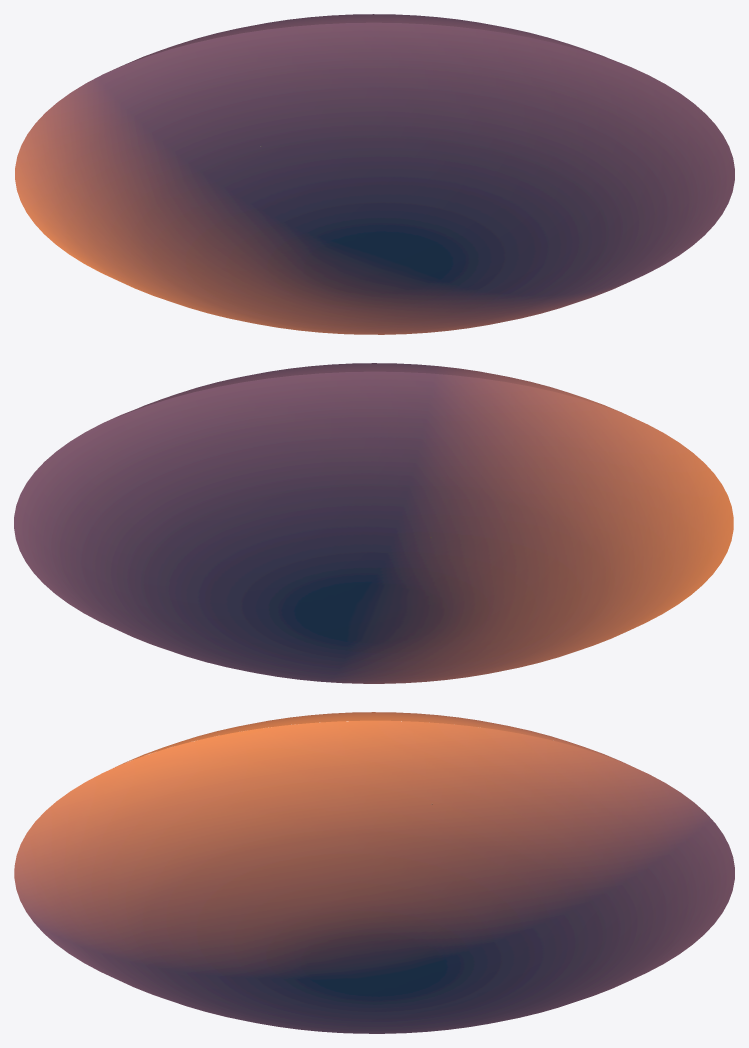
File: island.glb
The picture shows the model from 3 angles, top to bottom: view 1: azimuth 30°, elevation 25°; view 2: azimuth 150°, elevation 25°; view 3: azimuth 270°, elevation 25°; orthographic projection.
Visible parts, largest first — view 1: StaticMesh_SkySphere_3, StaticMesh_SkySphere_2; view 2: StaticMesh_SkySphere_3, StaticMesh_SkySphere_2; view 3: StaticMesh_SkySphere_3, StaticMesh_SkySphere_2.
Part boxes in pixels (x1,y1,x2,y2): StaticMesh_SkySphere_3: (15, 22, 734, 334); StaticMesh_SkySphere_2: (112, 14, 633, 70); StaticMesh_SkySphere_3: (14, 371, 733, 683); StaticMesh_SkySphere_2: (112, 363, 631, 419); StaticMesh_SkySphere_3: (14, 720, 734, 1033); StaticMesh_SkySphere_2: (115, 712, 633, 767).
Size of the model in its own units: 20666 by 5906 by 20641.
41 materials, 1 textured.
